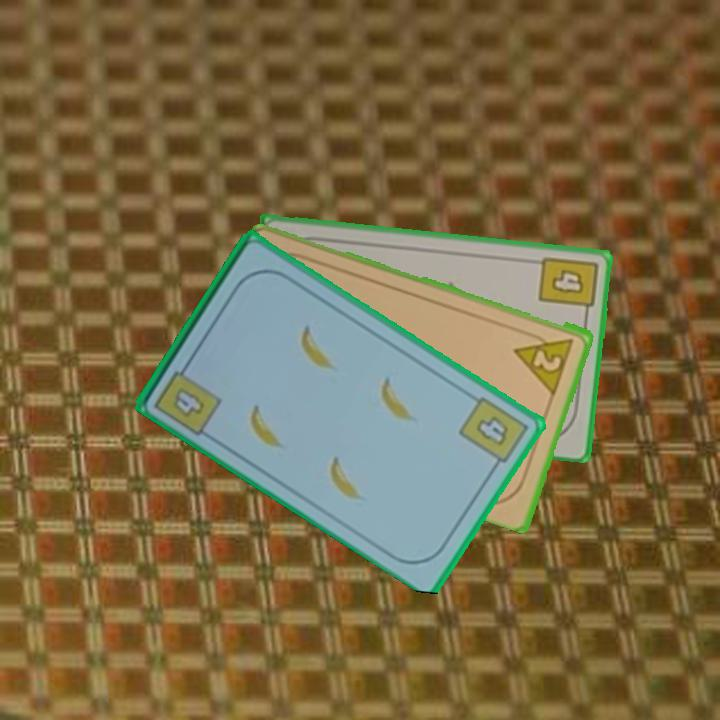2p: (511, 328, 578, 396)
4b: (455, 392, 531, 473), (150, 356, 225, 438), (535, 252, 600, 321)
